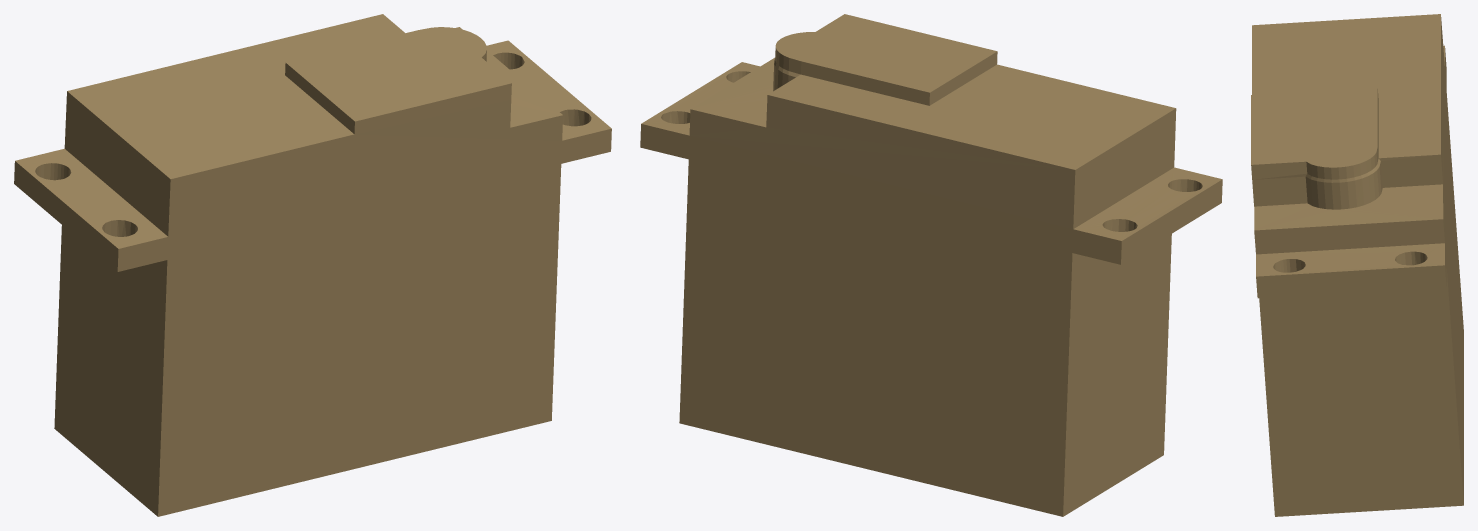
Rendered from Texture.224.dae.balanced.glb.
3 views of the same model, side by side, from view 1: azimuth 30°, elevation 25°; view 2: azimuth 150°, elevation 25°; view 3: azimuth 270°, elevation 25° (orthographic). The views are drawn at different scales.
Bounding box in the file's own units: 0.7755 × 0.5533 × 0.3176.
